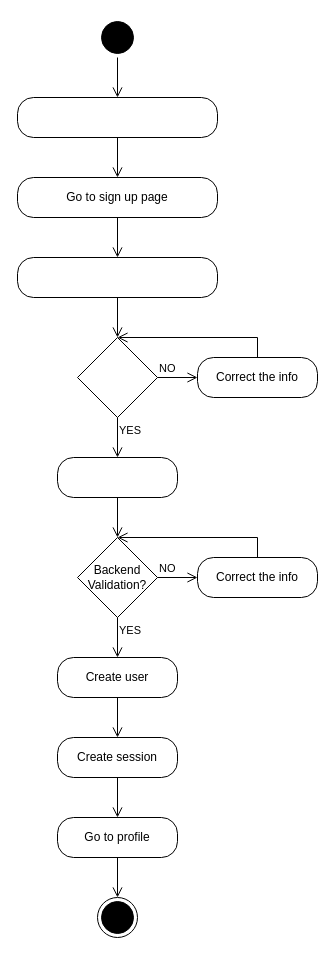
Some shapes in this 335 by 955 pixel diagram are drawn without their labels. Each missing label, with the centre of its shape:
Click on sign up in home page: the point at 117,117
Enter username, email, password, confirm password: the point at 117,277
Front-end Validations?: the point at 117,377
Submit: the point at 117,477
